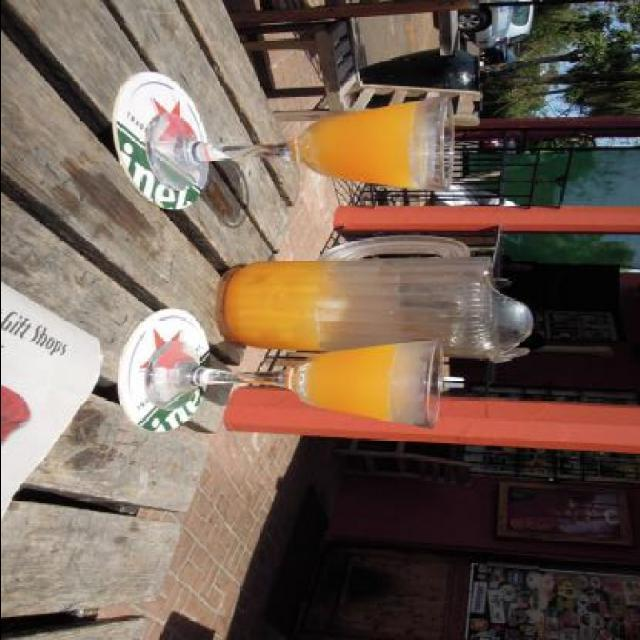Juice: (213, 256, 355, 347), (284, 338, 428, 426), (294, 99, 432, 188)
